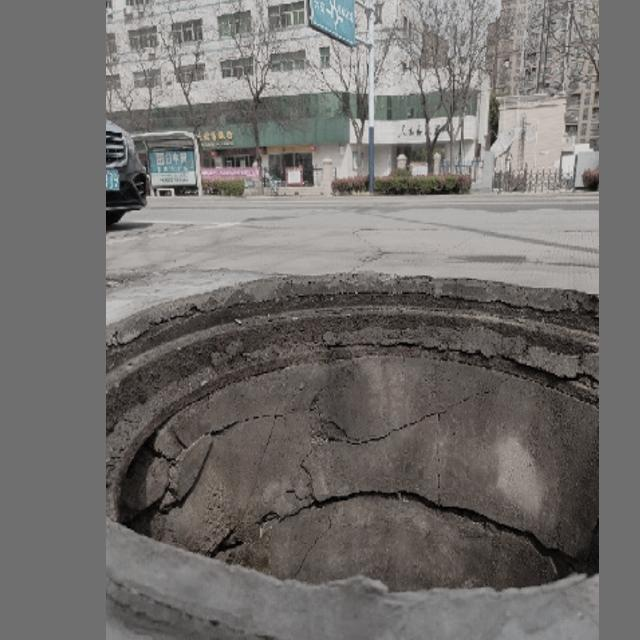lose: (106, 230, 596, 635)
